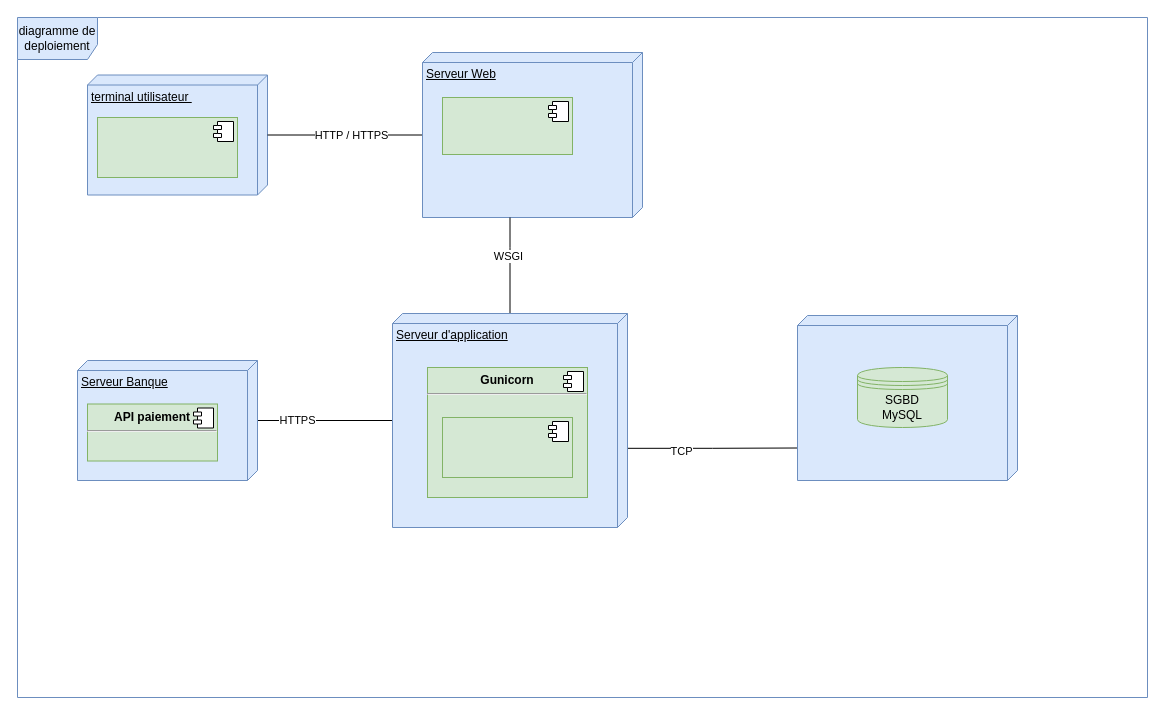
The diagram is 1165 pixels wide and 715 high, and some of its shapes have lost their labels. Here are the shapes that lost their labels. From the top down, the box of each, then its label:
(442, 96, 572, 154): Ngnix
(96, 116, 238, 178): Navigateur Web
(796, 314, 1018, 480): Serveur Unix/windows
(442, 416, 572, 478): Application Python OCpizzas
